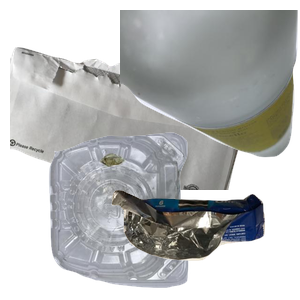glass: (120, 10, 300, 160)
paper: (10, 45, 250, 225)
plastic: (46, 130, 227, 300)
trash: (109, 187, 300, 300)
